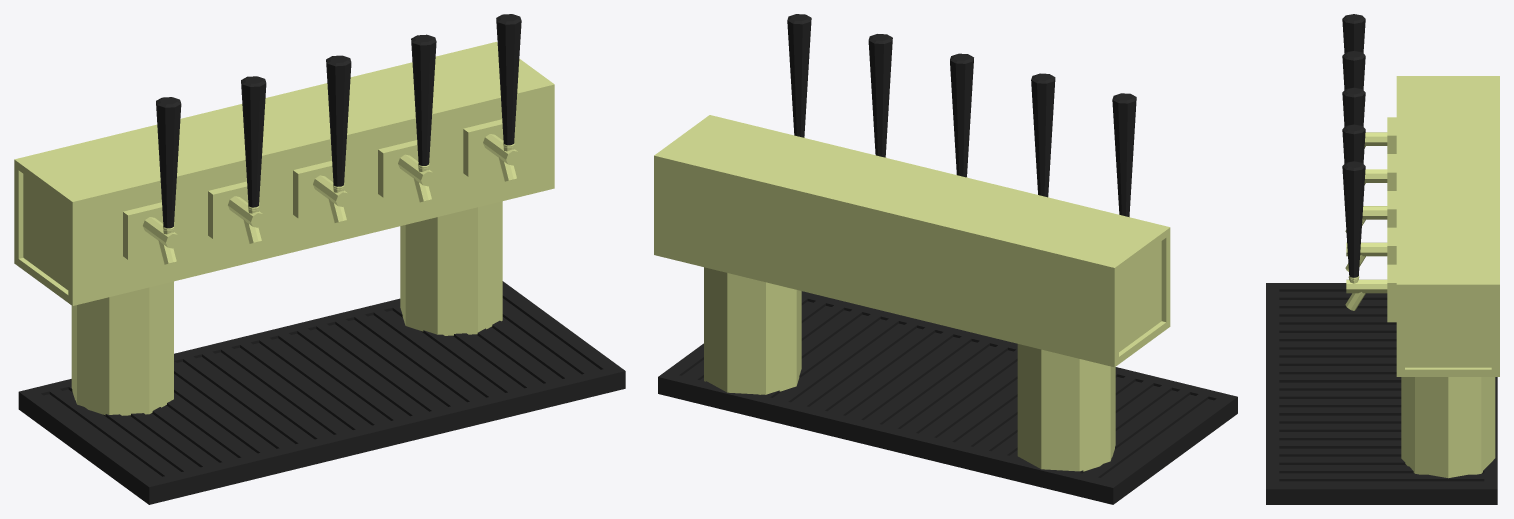
The model's file is pandemonium_Beertap.fbx.
The picture shows the model from 3 angles, left to right: view 1: azimuth 30°, elevation 25°; view 2: azimuth 150°, elevation 25°; view 3: azimuth 270°, elevation 25°; orthographic projection. The views are drawn at different scales.
Parts seen in each view (by area): view 1: Cube.004, Cube.013, Cylinder.024, Cylinder.020, Cylinder.021; view 2: Cube.004, Cube.013, Cylinder.024, Cylinder.021, Cylinder.020; view 3: Cube.013, Cube.004, Cylinder.024, Cylinder.020.
Boxes of the visible parts, bbox=[...] form: Cube.004: bbox=[14, 42, 554, 305]; Cube.013: bbox=[18, 281, 625, 504]; Cylinder.024: bbox=[123, 14, 521, 264]; Cylinder.020: bbox=[400, 201, 502, 335]; Cylinder.021: bbox=[71, 281, 173, 415]; Cube.004: bbox=[654, 115, 1170, 367]; Cube.013: bbox=[658, 291, 1237, 504]; Cylinder.024: bbox=[787, 14, 1136, 217]; Cylinder.021: bbox=[1017, 344, 1115, 471]; Cylinder.020: bbox=[704, 267, 801, 394]; Cube.013: bbox=[1266, 283, 1497, 504]; Cube.004: bbox=[1396, 76, 1499, 376]; Cylinder.024: bbox=[1342, 14, 1396, 322]; Cylinder.020: bbox=[1401, 377, 1495, 478].
Size of the model in its own units: 189 by 132 by 89.79.
